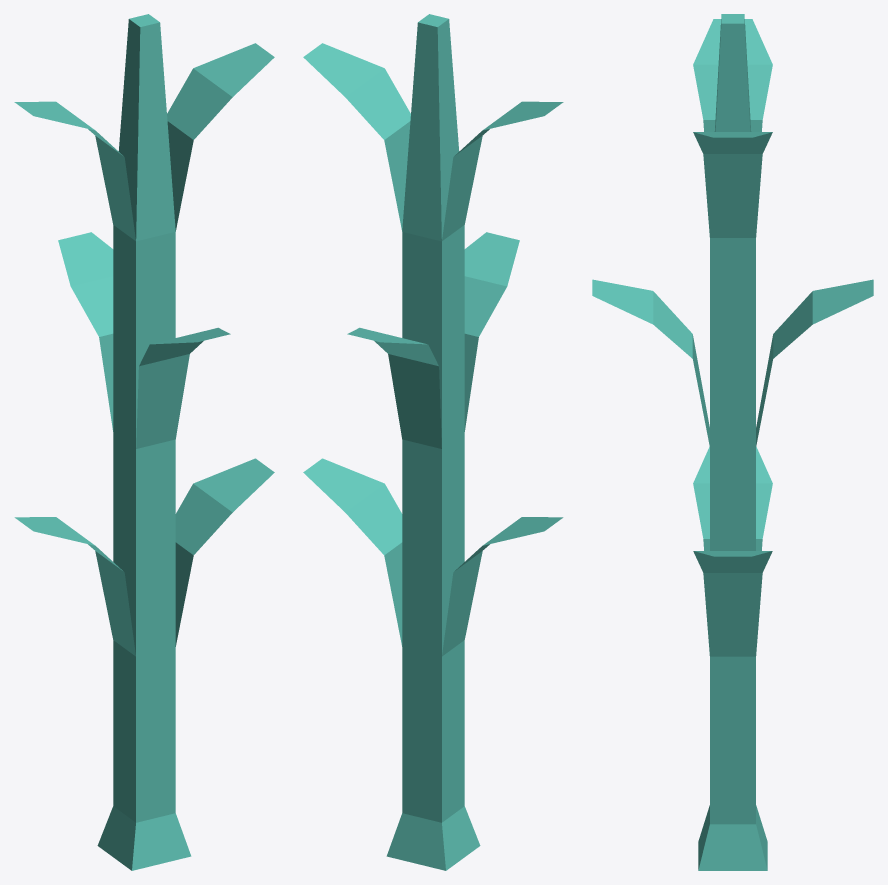
Rendered from crops_cornStageB.glb.
3 views of the same model, side by side, from view 1: azimuth 30°, elevation 25°; view 2: azimuth 150°, elevation 25°; view 3: azimuth 270°, elevation 25° (orthographic).
Visible parts, largest first — view 1: crops_cornStageB; view 2: crops_cornStageB; view 3: crops_cornStageB.
Part boxes in pixels (x1,y1,x2,y2): crops_cornStageB: (14,14,274,870); crops_cornStageB: (303,14,563,870); crops_cornStageB: (592,14,873,870).
Size of the model in its own units: 0.3042 by 1 by 0.3042.
